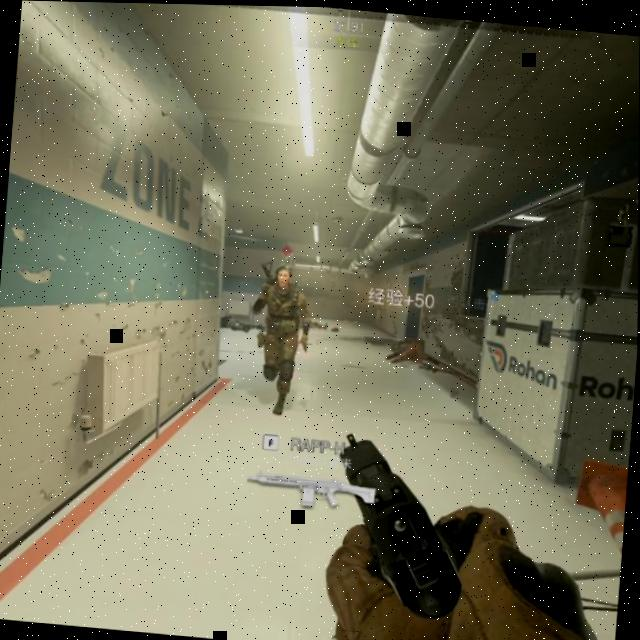MW2_body: (244, 241, 317, 417)
